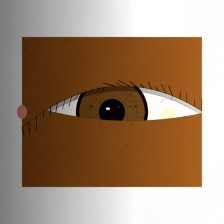pinguecula_lesion: (154, 102, 183, 126)
